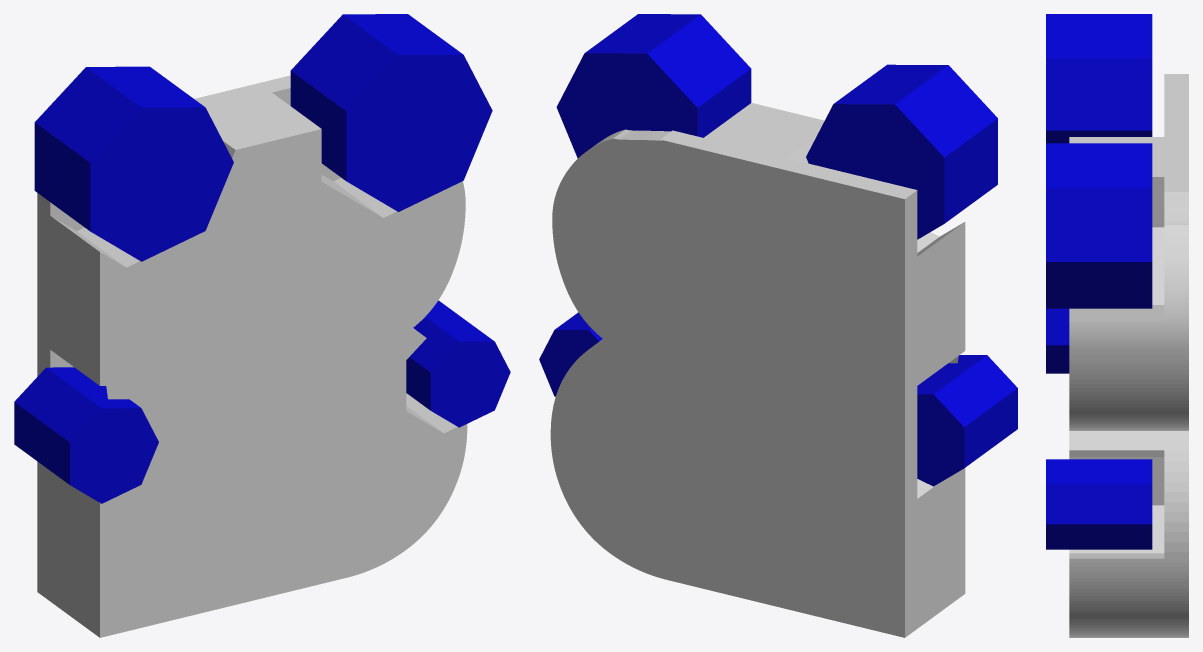
The model's file is Ch_Lite_B_01.fbx.
The picture shows the model from 3 angles, left to right: view 1: azimuth 30°, elevation 25°; view 2: azimuth 150°, elevation 25°; view 3: azimuth 270°, elevation 25°; orthographic projection. The views are drawn at different scales.
Parts seen in each view (by area): view 1: sphere1; view 2: sphere1; view 3: sphere1.
Part boxes in pixels (x1=…): sphere1: x1=14, y1=14, x2=510, y2=637; sphere1: x1=539, y1=14, x2=1017, y2=637; sphere1: x1=1046, y1=14, x2=1188, y2=637.
Bounding box in the file's own units: 0.8113 × 0.9355 × 0.2387.
